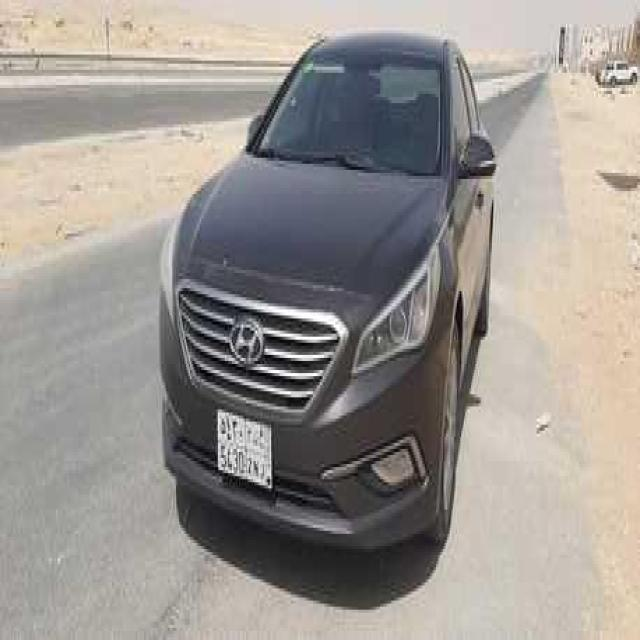license_plate: (207, 385, 278, 501)
